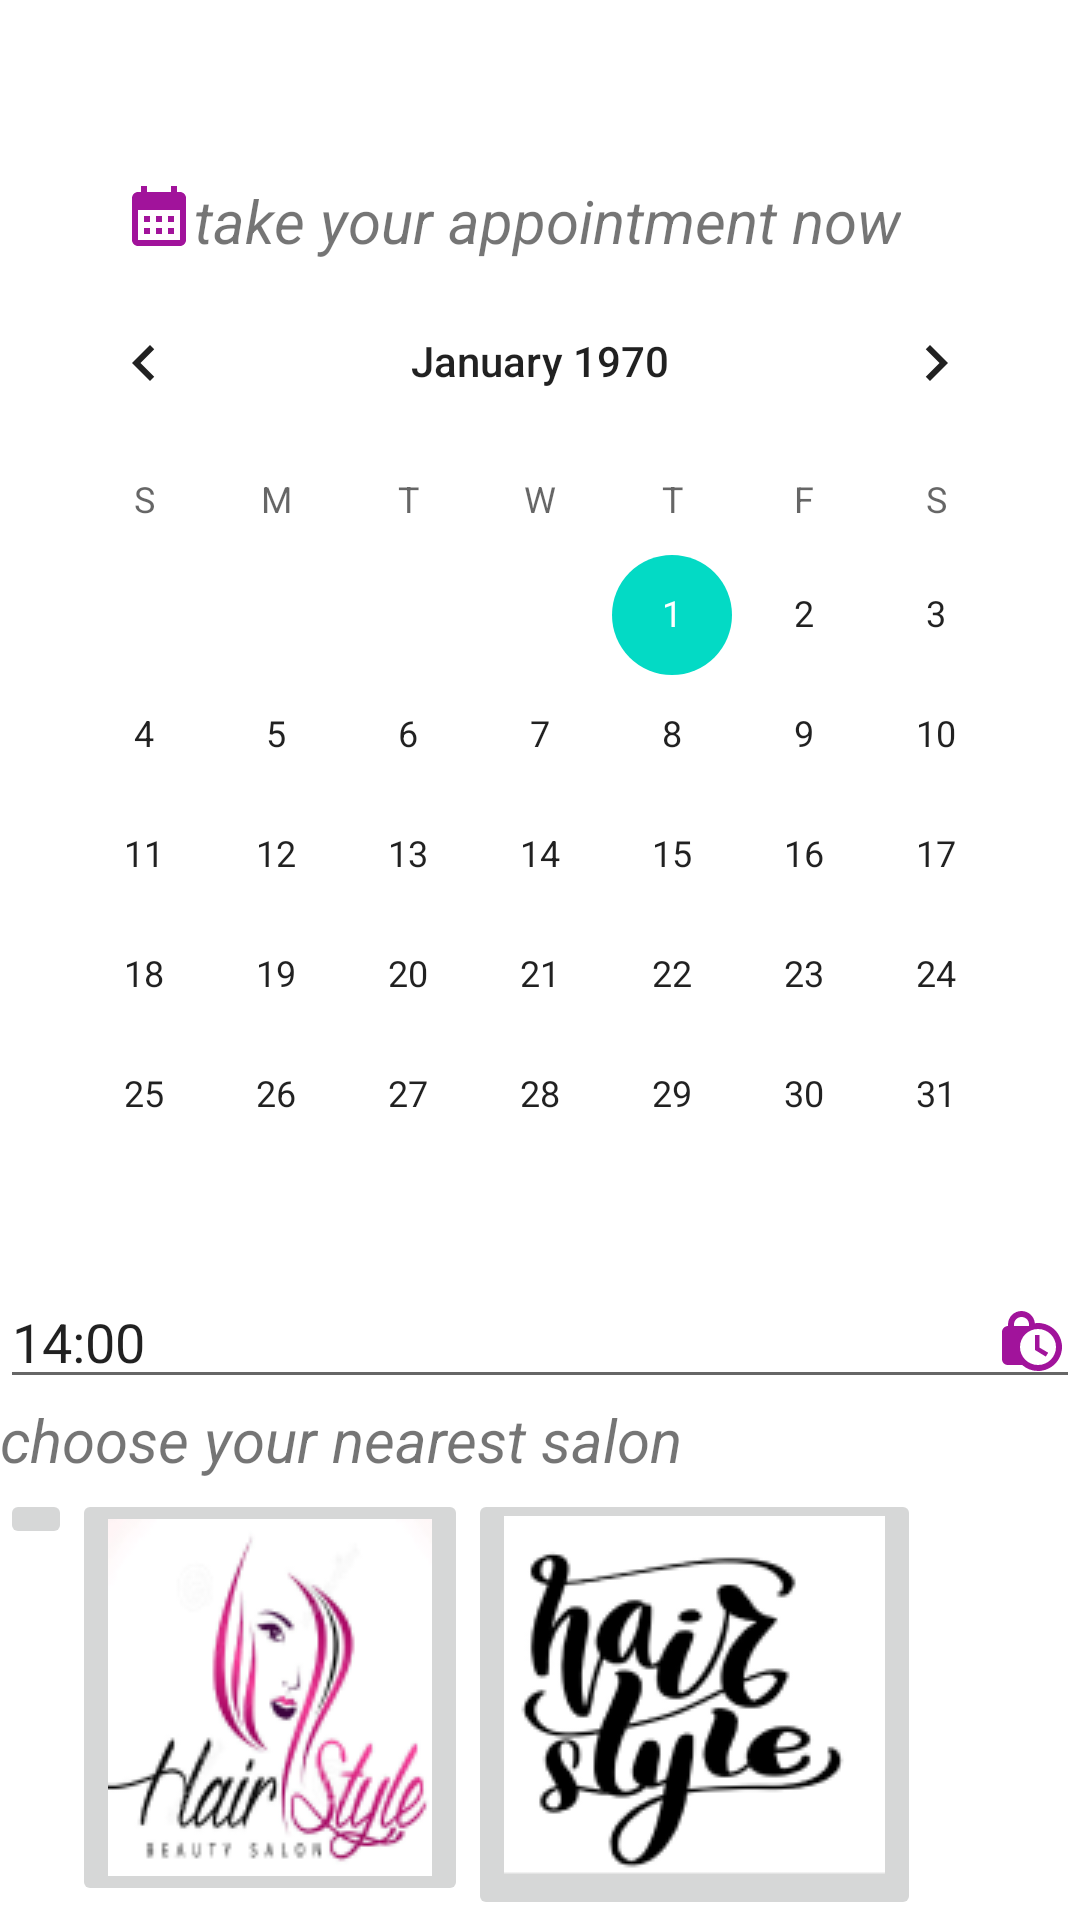

Locate icon controls on the screen. Image size 1080w x 1920h, boxes as [x1,y1,x2,y2].
calendar month: [132,186,186,246]
